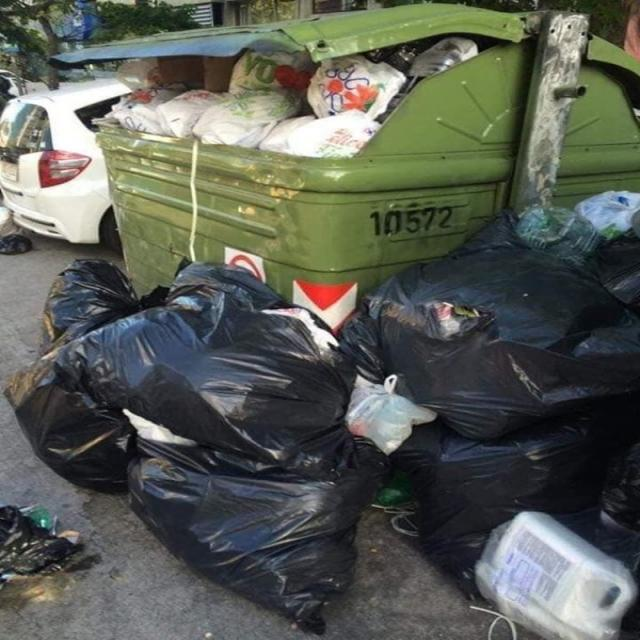garbage: (0, 255, 576, 640), (492, 226, 638, 640), (97, 58, 431, 154), (0, 215, 42, 279)
